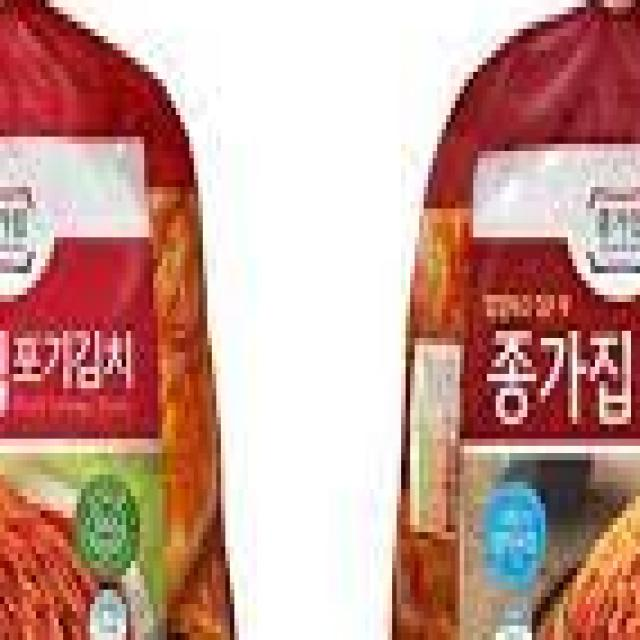kimchi: (0, 0, 257, 640), (387, 0, 640, 640)
